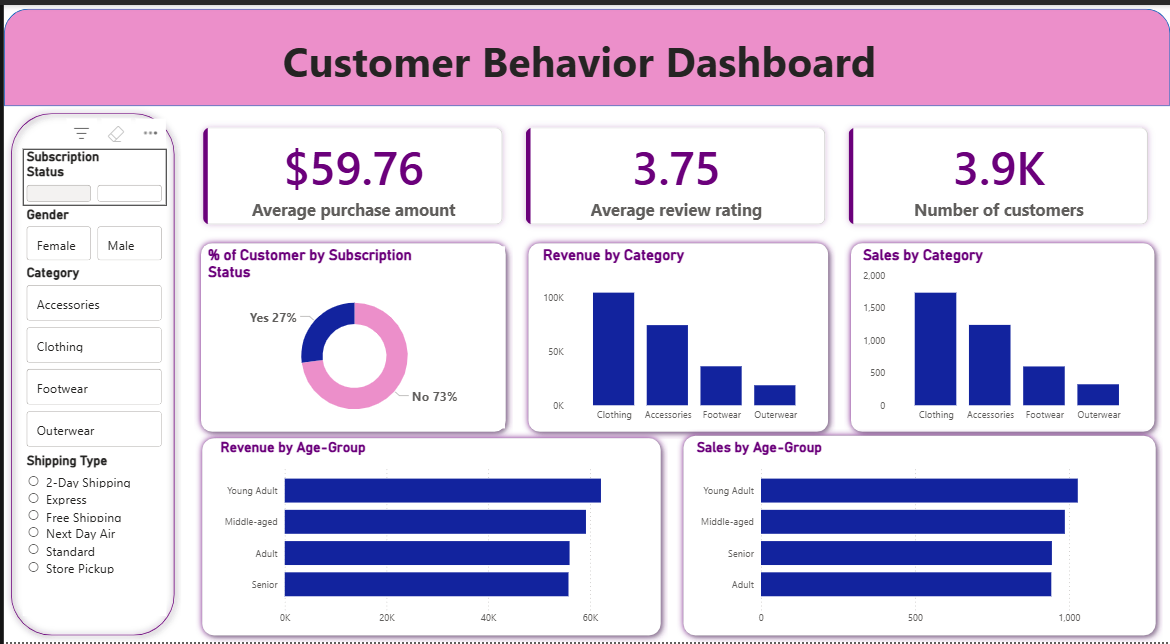

Layout of this report page (visuals, bound fields, positions):
{"tool":"powerbi","page":{"name":"Page 1","canvas":[1500,820],"ordinal":0},"visuals":[{"type":"cardVisual","fields":{"Data":["public customer.Average purchase amount","public customer.Average review rating","public customer.Number of customers"]},"box":[228.3,130.3,1272,180.1],"z":0},{"type":"shape","box":[0,4.8,1500.3,125.4],"z":1000},{"type":"textbox","box":[11.3,30.6,1458.5,127],"z":2000},{"type":"shape","box":[244.4,297.5,410.1,260.5],"z":3000},{"type":"donutChart","title":"% of Customer by Subscription Status","fields":{"Category":["public customer.subscription_status"],"Y":["CountNonNull(public customer.customer_id)"]},"box":[257.3,310.4,387.5,234.8],"z":4000},{"type":"shape","box":[1080.6,297.5,408.4,260.5],"z":5000},{"type":"shape","box":[665.7,297.5,403.6,260.5],"z":6000},{"type":"clusteredColumnChart","title":"Revenue by Category","fields":{"Y":["Sum(public customer.purchase_amount)"],"Category":["public customer.category"]},"box":[688.3,310.4,365,234.8],"z":7000},{"type":"clusteredColumnChart","title":"Sales by Category","fields":{"Y":["CountNonNull(public customer.customer_id)"],"Category":["public customer.category"]},"box":[1099.9,310.4,369.9,234.8],"z":8000},{"type":"shape","box":[0,130.3,228.3,689.9],"z":9000},{"type":"advancedSlicerVisual","title":"Subscription Status","fields":{"Values":["public customer.subscription_status"]},"box":[24.1,184.9,184.9,74],"z":9001},{"type":"advancedSlicerVisual","fields":{"Values":["public customer.gender"]},"box":[24.1,258.9,184.9,75.6],"z":9002},{"type":"advancedSlicerVisual","title":"Category","fields":{"Values":["public customer.category"]},"box":[24.1,334.5,184.9,241.2],"z":9003},{"type":"listSlicer","title":"Shipping Type","fields":{"Values":["public customer.shipping_type"]},"box":[24.1,575.7,184.9,210.7],"z":9004},{"type":"shape","box":[865.1,545.1,625.5,275],"z":9006},{"type":"shape","box":[246,548.4,607.8,271.8],"z":9007},{"type":"clusteredBarChart","title":"Revenue by Age-Group","fields":{"Y":["Sum(public customer.purchase_amount)"],"Category":["public customer.age_group"]},"box":[273.4,558,561.2,249.3],"z":9008},{"type":"clusteredBarChart","title":"Sales by Age-Group","fields":{"Y":["CountNonNull(public customer.customer_id)"],"Category":["public customer.age_group"]},"box":[886,558,583.7,249.3],"z":9009}]}

Visuals, with their boxes in screenshot pixels (x1, y1, x2, y2), scaled from the page's 1500x820 canvas onto the 1170x644 screenshot:
cardVisual - public customer.Average purchase amount x public customer.Average review rating: bbox(178, 102, 1169, 244)
shape: bbox(0, 4, 1169, 102)
textbox: bbox(9, 24, 1146, 124)
shape: bbox(191, 234, 511, 438)
"% of Customer by Subscription Status" donutChart: bbox(201, 244, 503, 428)
shape: bbox(843, 234, 1161, 438)
shape: bbox(519, 234, 834, 438)
"Revenue by Category" clusteredColumnChart: bbox(537, 244, 822, 428)
"Sales by Category" clusteredColumnChart: bbox(858, 244, 1146, 428)
shape: bbox(0, 102, 178, 643)
"Subscription Status" advancedSlicerVisual: bbox(19, 145, 163, 203)
advancedSlicerVisual - public customer.gender: bbox(19, 203, 163, 263)
"Category" advancedSlicerVisual: bbox(19, 263, 163, 452)
"Shipping Type" listSlicer: bbox(19, 452, 163, 618)
shape: bbox(675, 428, 1163, 643)
shape: bbox(192, 431, 666, 643)
"Revenue by Age-Group" clusteredBarChart: bbox(213, 438, 651, 634)
"Sales by Age-Group" clusteredBarChart: bbox(691, 438, 1146, 634)
